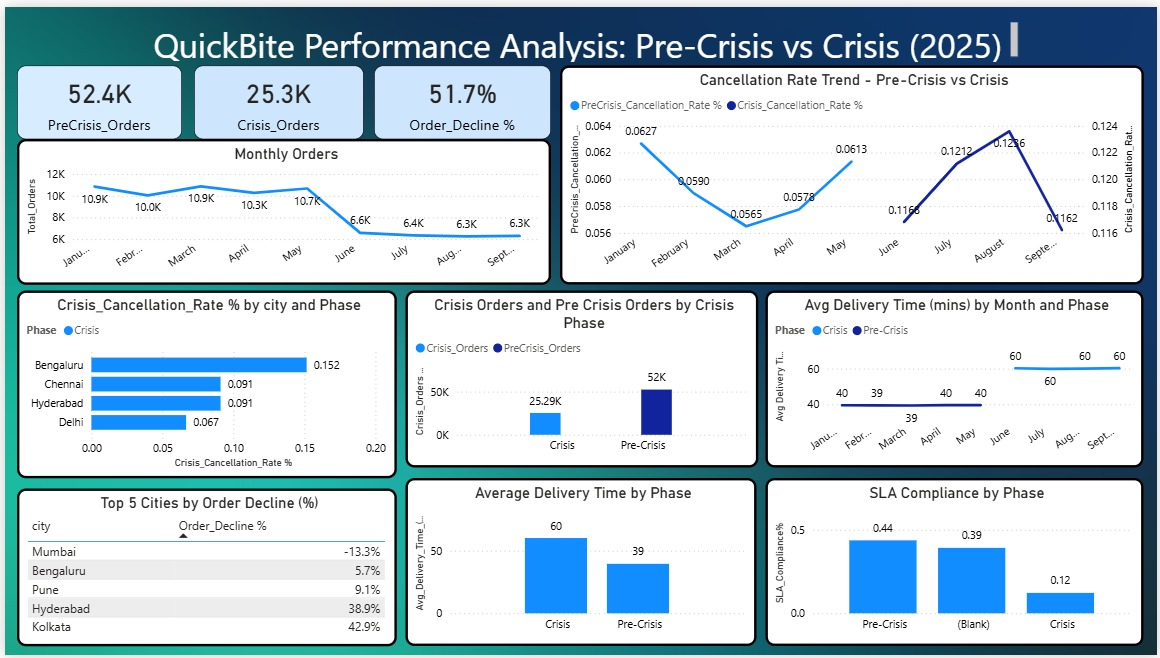

The dashboard page shown, as its layout file describes it:
{"tool":"powerbi","page":{"name":"Page 1","canvas":[1280,720],"ordinal":0},"visuals":[{"type":"card","fields":{"Values":["fact_orders.PreCrisis_Orders"]},"box":[13.3,65,183.3,81.7],"z":0},{"type":"card","fields":{"Values":["fact_orders.Crisis_Orders"]},"box":[210,65,188.3,81.7],"z":1000},{"type":"card","fields":{"Values":["fact_orders.Order_Decline %"]},"box":[410,65,196.7,81.7],"z":2000},{"type":"lineChart","title":"Monthly Orders","fields":{"Y":["fact_orders.Total_Orders"],"Category":["fact_orders.order_timestamp.Variation.Date Hierarchy.Month"]},"box":[13.3,146.7,593.3,161.7],"z":3000},{"type":"clusteredColumnChart","title":"Crisis Orders and Pre Crisis Orders by Crisis Phase","fields":{"Y":["fact_orders.Crisis_Orders","fact_orders.PreCrisis_Orders"],"Category":["fact_orders.Crisis_Phase"]},"box":[445,315,391.7,196.7],"z":4000},{"type":"tableEx","title":"Top 5 Cities by Order Decline (%)","fields":{"Values":["dim_customer.city","fact_orders.Order_Decline %"]},"box":[13.3,535,421.7,175],"z":5000},{"type":"lineChart","title":"Cancellation Rate Trend - Pre-Crisis vs Crisis","fields":{"Category":["fact_orders.order_timestamp.Variation.Date Hierarchy.Month"],"Y2":["fact_orders.Crisis_Cancellation_Rate %"],"Y":["fact_orders.PreCrisis_Cancellation_Rate %"]},"box":[616.7,65,648.3,243.3],"z":6000},{"type":"clusteredBarChart","fields":{"Category":["dim_customer.city"],"Y":["fact_orders.Crisis_Cancellation_Rate %"],"Series":["fact_orders.Phase"]},"box":[13.3,315,421.7,208.3],"z":7000},{"type":"clusteredColumnChart","title":"Average Delivery Time by Phase","fields":{"Category":["fact_orders.Phase"],"Y":["fact_delivery_performance.Avg_Delivery_Time_(mins)"]},"box":[445,523.3,390,186.7],"z":8000},{"type":"clusteredColumnChart","title":"SLA Compliance by Phase","fields":{"Category":["fact_orders.Phase"],"Y":["fact_delivery_performance.SLA_Compliance%"]},"box":[845,523.3,420,186.7],"z":9000},{"type":"lineChart","title":"Avg Delivery Time (mins) by Month and Phase","fields":{"Category":["fact_orders.order_timestamp.Variation.Date Hierarchy.Month"],"Y":["fact_delivery_performance.Avg Delivery Time (mins)"],"Series":["fact_orders.Phase"]},"box":[845,315,420,196.7],"z":10000},{"type":"textbox","box":[150,11.7,980,53.3],"z":11000}]}

Visuals, with their boxes in screenshot pixels (x1, y1, x2, y2), scaled from the page's 1280x720 canvas onto the 1160x658 screenshot:
card - fact_orders.PreCrisis_Orders: (12,59,178,134)
card - fact_orders.Crisis_Orders: (190,59,361,134)
card - fact_orders.Order_Decline %: (372,59,550,134)
"Monthly Orders" lineChart: (12,134,550,282)
"Crisis Orders and Pre Crisis Orders by Crisis Phase" clusteredColumnChart: (403,288,758,468)
"Top 5 Cities by Order Decline (%)" tableEx: (12,489,394,649)
"Cancellation Rate Trend - Pre-Crisis vs Crisis" lineChart: (559,59,1146,282)
clusteredBarChart - dim_customer.city x fact_orders.Crisis_Cancellation_Rate %: (12,288,394,478)
"Average Delivery Time by Phase" clusteredColumnChart: (403,478,757,649)
"SLA Compliance by Phase" clusteredColumnChart: (766,478,1146,649)
"Avg Delivery Time (mins) by Month and Phase" lineChart: (766,288,1146,468)
textbox: (136,11,1024,59)
